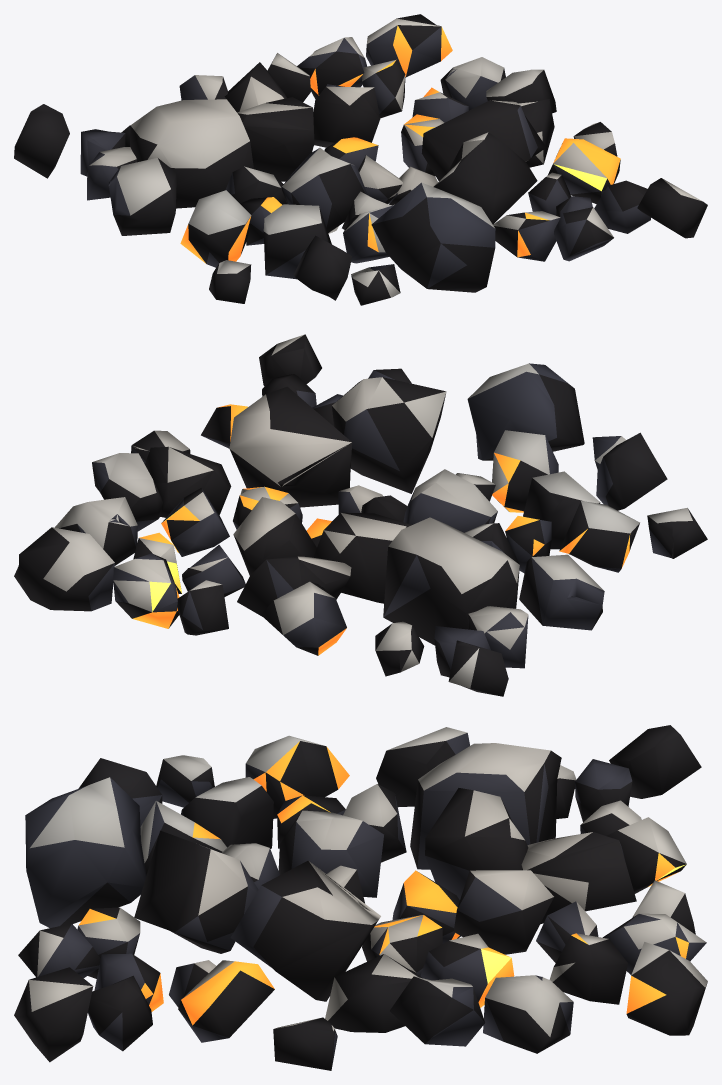
File: ember_coal_bed_b_lod2.glb
3 views of the same model, one above another, from view 1: azimuth 30°, elevation 25°; view 2: azimuth 150°, elevation 25°; view 3: azimuth 270°, elevation 25° (orthographic). The views are drawn at different scales.
Visible parts, largest first — view 1: ember_coal_bed_b.001; view 2: ember_coal_bed_b.001; view 3: ember_coal_bed_b.001.
Boxes of the visible parts, x1=… form: ember_coal_bed_b.001: x1=14, y1=14, x2=707, y2=305; ember_coal_bed_b.001: x1=14, y1=334, x2=707, y2=696; ember_coal_bed_b.001: x1=14, y1=725, x2=707, y2=1070.
Size of the model in its own units: 11.92 by 2.52 by 11.94.
